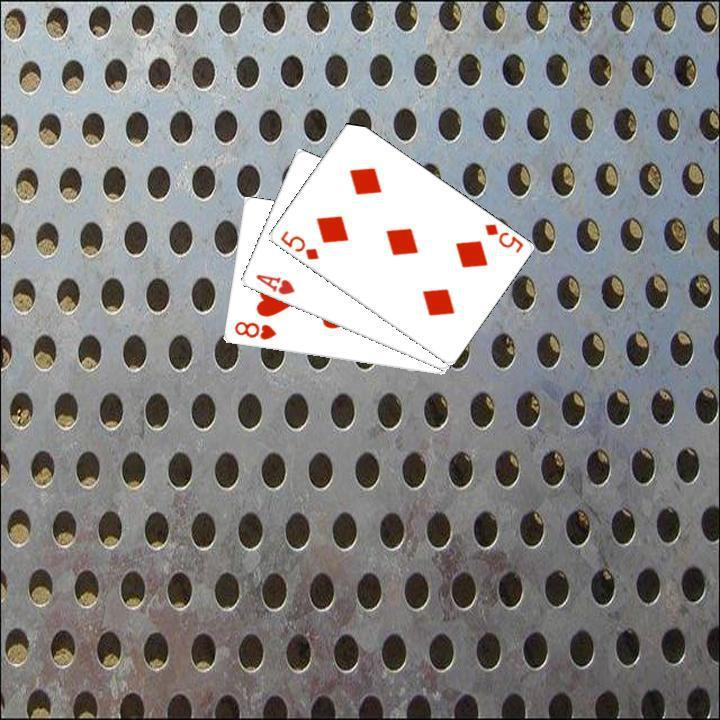5: (275, 226, 320, 262), (480, 219, 525, 255)
8: (230, 317, 278, 342)
A: (251, 270, 296, 297)
